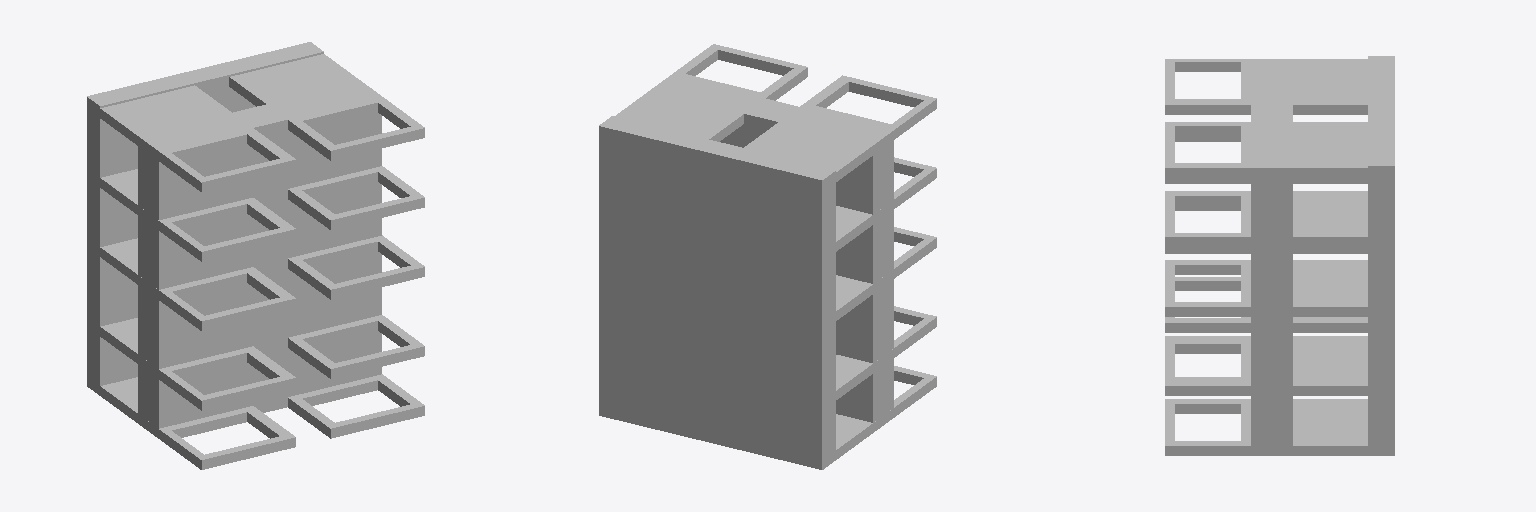
Rendered from dishrack.obj.
The picture shows the model from 3 angles: view 1: azimuth 30°, elevation 25°; view 2: azimuth 150°, elevation 25°; view 3: azimuth 270°, elevation 25°; orthographic projection.
Visible parts, largest first — view 1: mesh77, mesh60, mesh82, mesh70, mesh30, mesh85, mesh91, mesh97, mesh58, mesh42, mesh1, mesh17 (+25 smaller); view 2: mesh31, mesh60, mesh82, mesh74, mesh30, mesh76, mesh69, mesh75, mesh58, mesh85, mesh91, mesh97 (+3 smaller); view 3: mesh29, mesh60, mesh1, mesh27, mesh17, mesh42, mesh30, mesh18, mesh28, mesh43, mesh8, mesh85 (+14 smaller).
Boxes of the visible parts, <box> form: mesh77: <box>159,113,381,428</box>; mesh60: <box>100,54,424,182</box>; mesh82: <box>87,97,201,469</box>; mesh70: <box>100,52,323,385</box>; mesh30: <box>87,42,323,105</box>; mesh85: <box>101,318,295,400</box>; mesh91: <box>101,169,295,251</box>; mesh97: <box>100,238,295,320</box>; mesh58: <box>101,377,294,459</box>; mesh42: <box>288,166,424,219</box>; mesh1: <box>288,374,424,428</box>; mesh17: <box>289,315,423,368</box>; mesh31: <box>599,126,821,469</box>; mesh60: <box>615,44,936,171</box>; mesh82: <box>822,99,936,469</box>; mesh74: <box>720,114,872,422</box>; mesh30: <box>599,116,835,179</box>; mesh76: <box>873,279,893,362</box>; mesh69: <box>873,141,893,214</box>; mesh75: <box>873,210,893,283</box>; mesh58: <box>836,366,936,449</box>; mesh85: <box>836,306,936,390</box>; mesh91: <box>836,157,936,241</box>; mesh97: <box>836,227,936,310</box>; mesh29: <box>1165,166,1394,455</box>; mesh60: <box>1165,59,1367,167</box>; mesh1: <box>1165,399,1367,445</box>; mesh27: <box>1165,260,1367,306</box>; mesh17: <box>1165,340,1367,385</box>; mesh42: <box>1165,191,1367,236</box>; mesh30: <box>1368,56,1394,165</box>; mesh18: <box>1251,317,1292,385</box>; mesh28: <box>1251,247,1292,306</box>; mesh43: <box>1251,178,1292,236</box>; mesh8: <box>1251,396,1292,445</box>; mesh85: <box>1165,277,1367,322</box>.
Size of the model in its own units: 0.2362 by 0.2921 by 0.21.